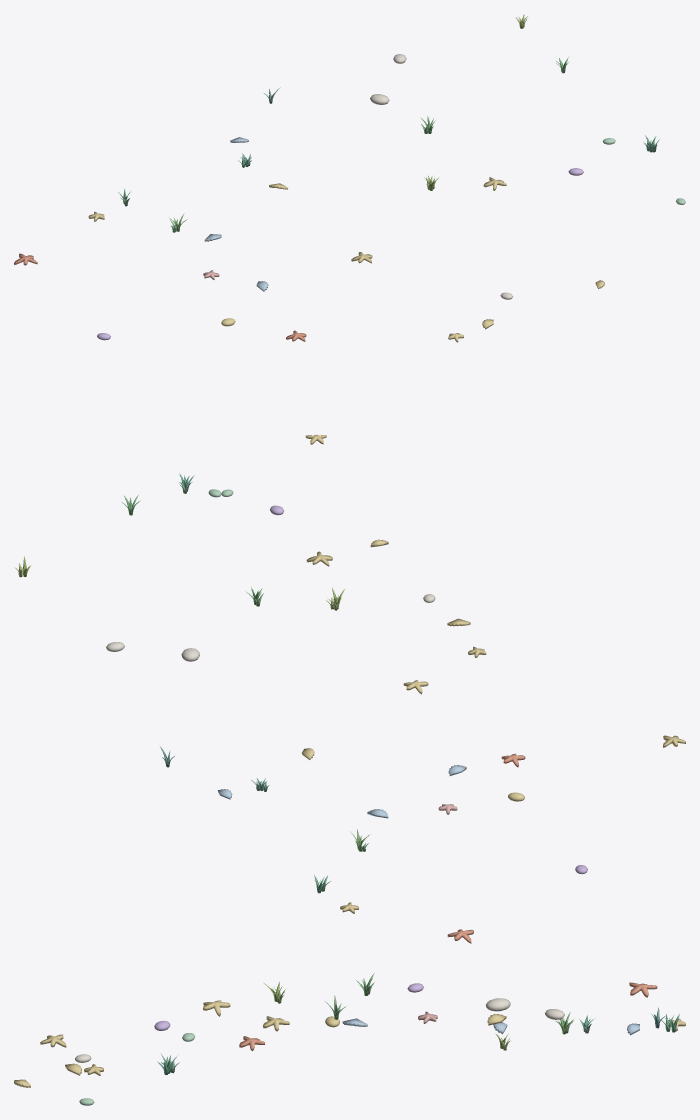
Rendered from W2_FloraRing_8_9.fbx.
3 renders of one model, top to bottom at view 1: azimuth 30°, elevation 25°; view 2: azimuth 150°, elevation 25°; view 3: azimuth 270°, elevation 25°, orthographic. The views are drawn at different scales.
Visible parts, largest first — view 1: W2_FloraRing_8_9; view 2: W2_FloraRing_8_9; view 3: W2_FloraRing_8_9.
Boxes of the visible parts, x1,y1,x2,y2 form: W2_FloraRing_8_9: (14, 14, 685, 444); W2_FloraRing_8_9: (14, 473, 685, 943); W2_FloraRing_8_9: (14, 973, 685, 1105).
Size of the model in its own units: 3.92 by 1.72 by 3.98.
